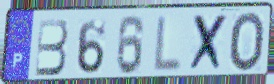6: (115, 13, 145, 77), (76, 18, 107, 76)
B: (33, 17, 70, 78)
L: (151, 14, 184, 74)
O: (229, 11, 267, 74)
X: (186, 12, 230, 75)
